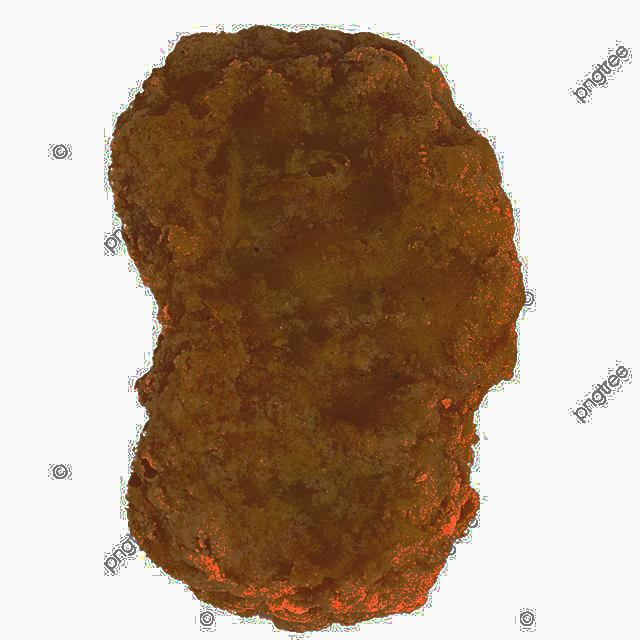chicken_nuggets: (106, 6, 525, 640)
